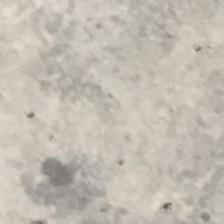Non_Crack: (6, 8, 185, 186)
